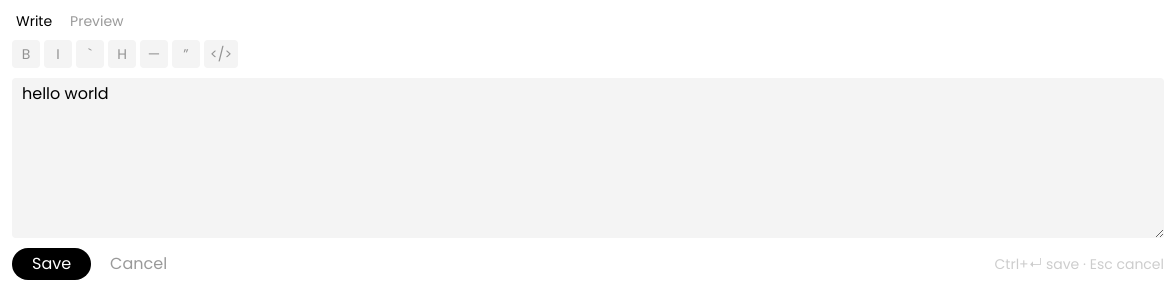
Scenario: MarkdownEditor › wraps the selection in ** when B is clicked
This screenshot has width=1176, height=297.
What coordinates should you click on to do the following:
click the button named "Bold"
I would click on:
 (26, 54)
Its box is [12,40,40,68].
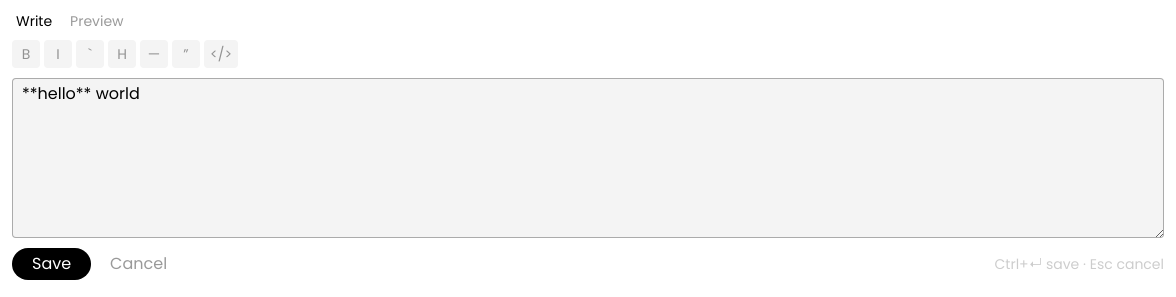
Now the text box named "Description" holds "**hello** world", box [12,78,1164,238]
